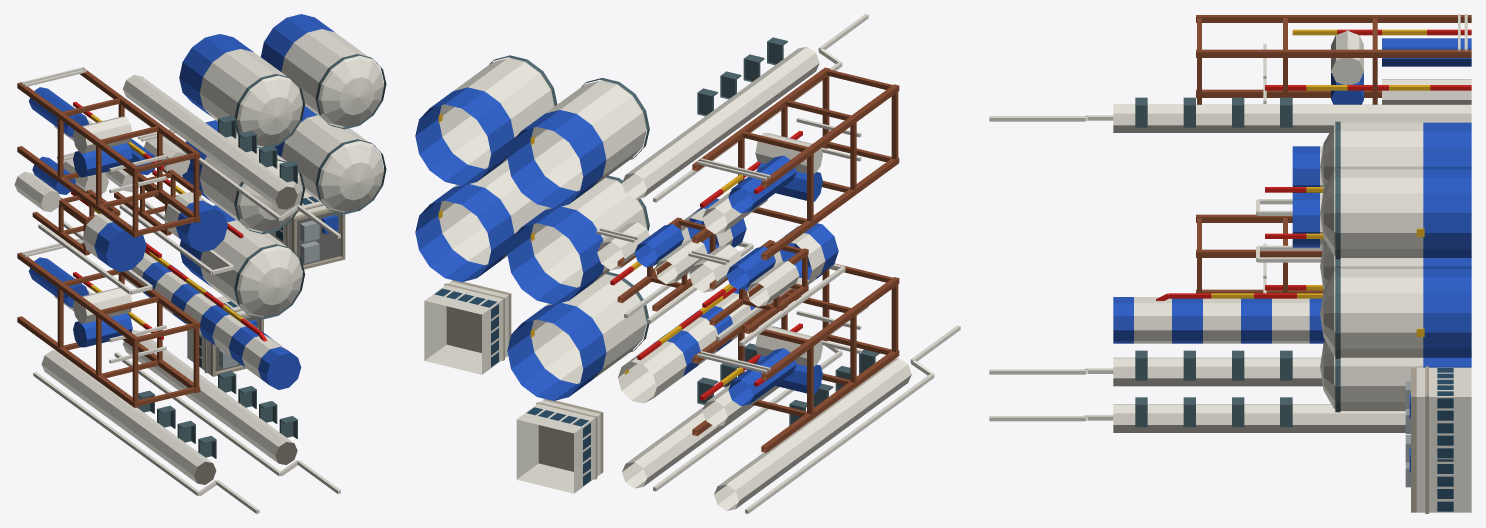
File: complete.glb
3 views of the same model, side by side, from view 1: azimuth 30°, elevation 25°; view 2: azimuth 150°, elevation 25°; view 3: azimuth 270°, elevation 25° (orthographic). The views are drawn at different scales.
Parts seen in each view (by area): view 1: t03_g21.003, t01_g21.003, t23_g18.003, t33_g18.003, t00_g20.003, t13_g20.003, t02_g22.003, t10_g20.003, t21_g18.003, t32_g18.003, t11_g19.003, t12_g22.003 (+3 smaller); view 2: t03_g21.003, t01_g21.003, t23_g18.003, t33_g18.003, t21_g18.003, t22_g18.003, t13_g20.003, t00_g20.003, t02_g22.003, t32_g18.003, t12_g22.003, t20_g23.003 (+3 smaller); view 3: t03_g21.003, t33_g18.003, t32_g18.003, t11_g19.003, t13_g20.003, t10_g20.003, t00_g20.003, t23_g18.003, t31_g23.003, t21_g18.003, t20_g23.003, t01_g21.003 (+3 smaller).
Part boxes in pixels (box(x1,y1,x2,y2)): t03_g21.003: box(17, 67, 200, 237); t01_g21.003: box(17, 238, 200, 407); t23_g18.003: box(179, 34, 304, 148); t33_g18.003: box(261, 14, 386, 129); t00_g20.003: box(33, 350, 259, 513); t13_g20.003: box(123, 75, 340, 238); t02_g22.003: box(14, 152, 161, 294); t10_g20.003: box(114, 330, 340, 493); t21_g18.003: box(179, 205, 304, 319); t32_g18.003: box(274, 106, 386, 214); t11_g19.003: box(118, 249, 301, 389); t12_g22.003: box(104, 129, 243, 274); t03_g21.003: box(692, 67, 899, 260); t01_g21.003: box(692, 263, 899, 452); t23_g18.003: box(507, 78, 649, 208); t33_g18.003: box(415, 55, 557, 185); t21_g18.003: box(507, 272, 649, 400); t22_g18.003: box(507, 175, 649, 304); t13_g20.003: box(622, 14, 868, 202); t00_g20.003: box(714, 325, 960, 513); t02_g22.003: box(688, 223, 845, 346); t32_g18.003: box(415, 160, 548, 282); t12_g22.003: box(596, 198, 753, 323); t20_g23.003: box(516, 399, 603, 493); t03_g21.003: box(1196, 14, 1471, 104); t33_g18.003: box(1320, 168, 1471, 259); t32_g18.003: box(1320, 268, 1471, 358); t11_g19.003: box(1113, 293, 1324, 343); t13_g20.003: box(989, 97, 1471, 132); t10_g20.003: box(989, 397, 1405, 432); t00_g20.003: box(989, 350, 1322, 386); t23_g18.003: box(1320, 121, 1471, 189); t31_g23.003: box(1405, 366, 1471, 460); t21_g18.003: box(1320, 340, 1471, 412); t20_g23.003: box(1405, 434, 1471, 513); t01_g21.003: box(1196, 214, 1323, 293).
Bounding box in the file's own units: 61.75 × 59.95 × 70.
